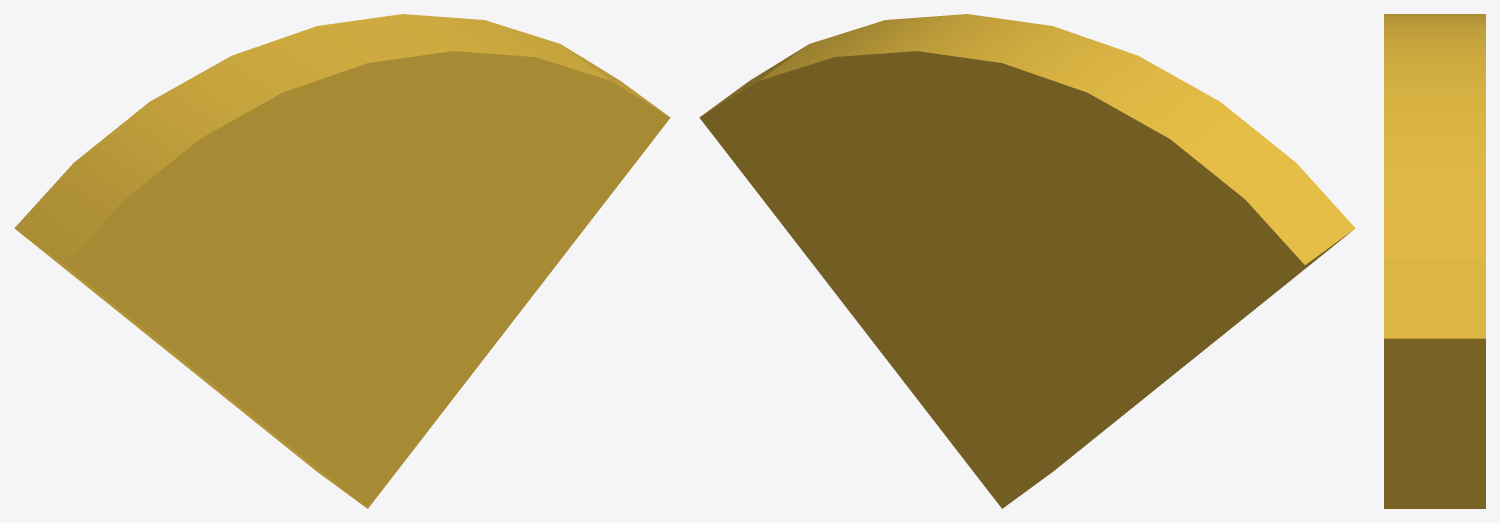
The model's file is slice_4.glb.
The picture shows the model from 3 angles, left to right: view 1: azimuth 30°, elevation 25°; view 2: azimuth 150°, elevation 25°; view 3: azimuth 270°, elevation 25°; orthographic projection.
Parts seen in each view (by area): view 1: slice4; view 2: slice4; view 3: slice4.
Part boxes in pixels (x1=…): slice4: x1=14, y1=14, x2=670, y2=508; slice4: x1=699, y1=14, x2=1355, y2=508; slice4: x1=1384, y1=14, x2=1485, y2=508.
Size of the model in its own units: 1.38 by 0.9717 by 0.2.
